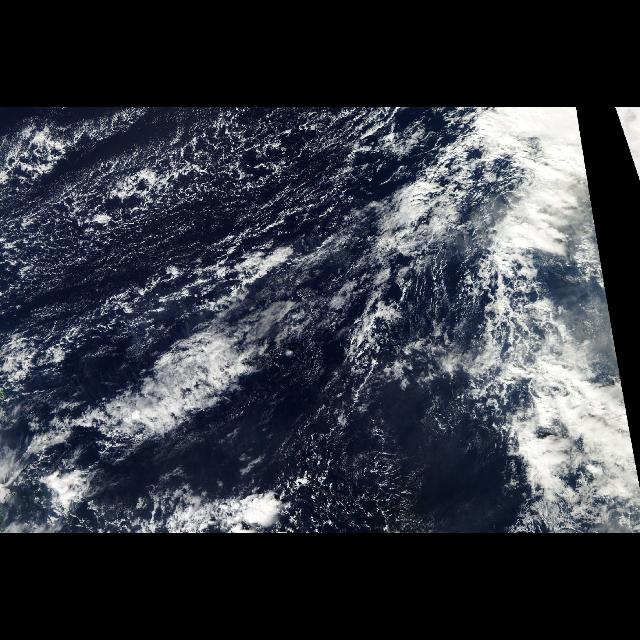Fish: (380, 121, 612, 533)
Gravel: (1, 108, 373, 330), (287, 376, 428, 532)
